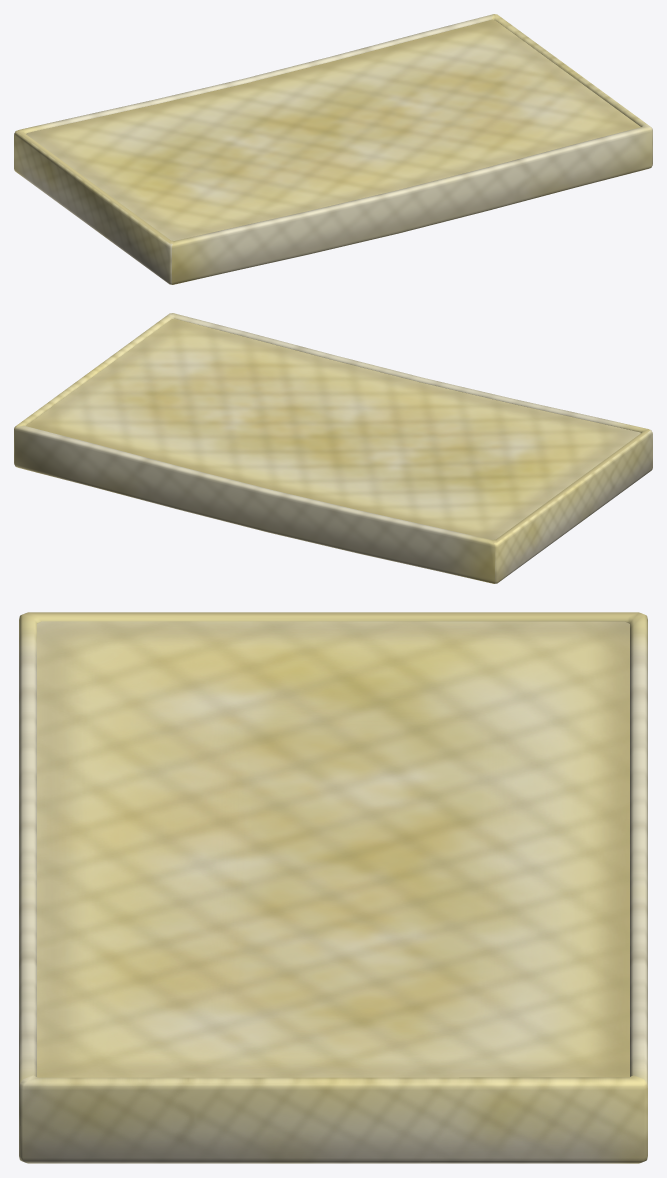
File: Matras.fbx
3 views of the same model, one above another, from view 1: azimuth 30°, elevation 25°; view 2: azimuth 150°, elevation 25°; view 3: azimuth 270°, elevation 25° (orthographic). The views are drawn at different scales.
Parts seen in each view (by area): view 1: Matrass; view 2: Matrass; view 3: Matrass.
Part boxes in pixels (left/top/right/bottom): Matrass: left=14, top=14, right=652, bottom=284; Matrass: left=14, top=313, right=652, bottom=583; Matrass: left=19, top=612, right=647, bottom=1163.
Bounding box in the file's own units: 2143 × 189 × 1206.
1 material, 1 textured.
